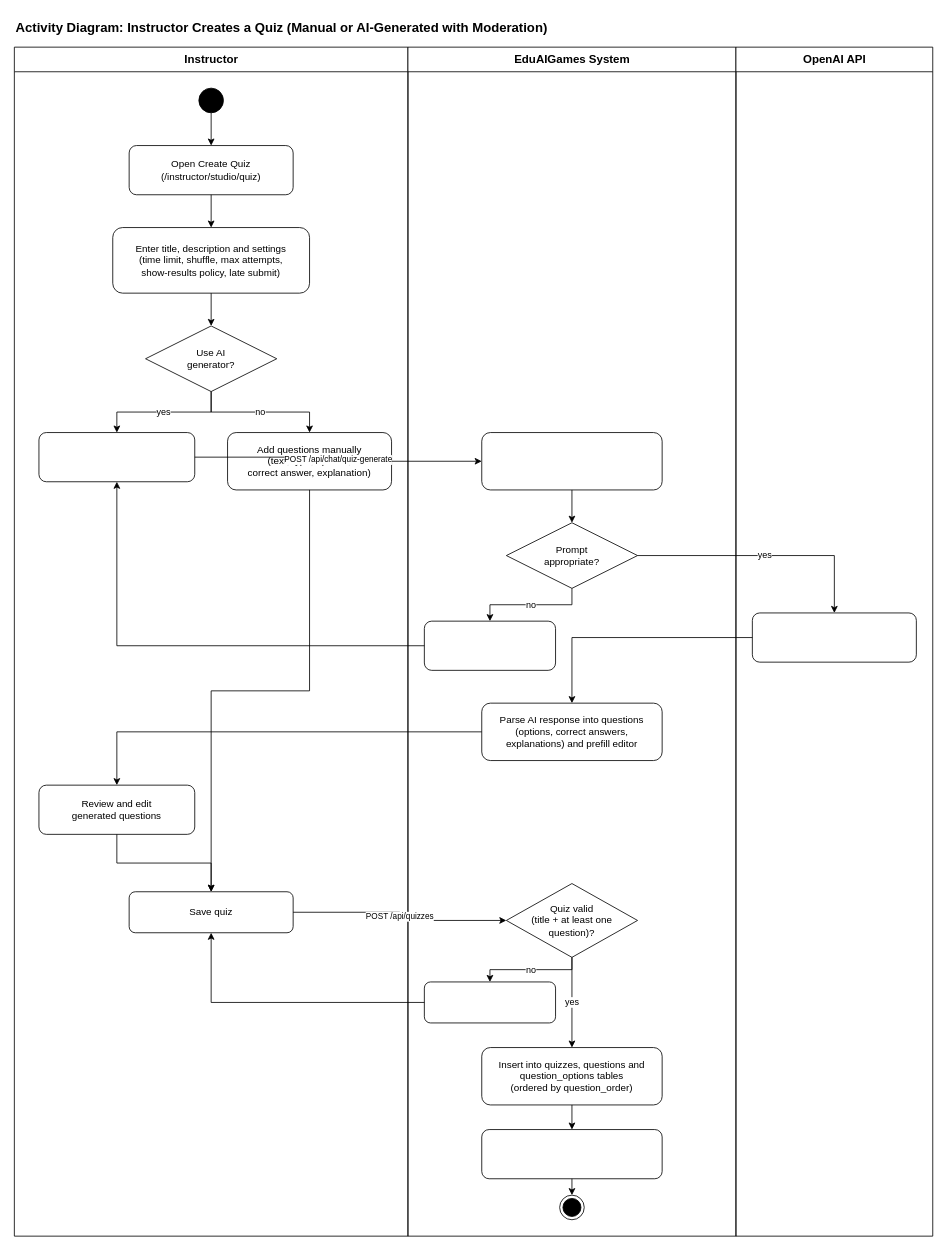
Image size: 947x1251. Some labels were removed from this diagram. The shapes that lost their labels are listed below. From the top down, each one's centre as x and y in pixels, then its label:
At [116,457]: "Enter topic, difficulty, question count and type".
At [571,461]: "Run content moderation (OpenAI Moderation + education classifier)".
At [490,645]: "Block request and log to admin audit".
At [834,637]: "Generate questions with gpt-4o-mini (JSON format)".
At [490,1002]: "Show validation errors".
At [571,1154]: "Quiz available in instructor library for publishing to classes".
